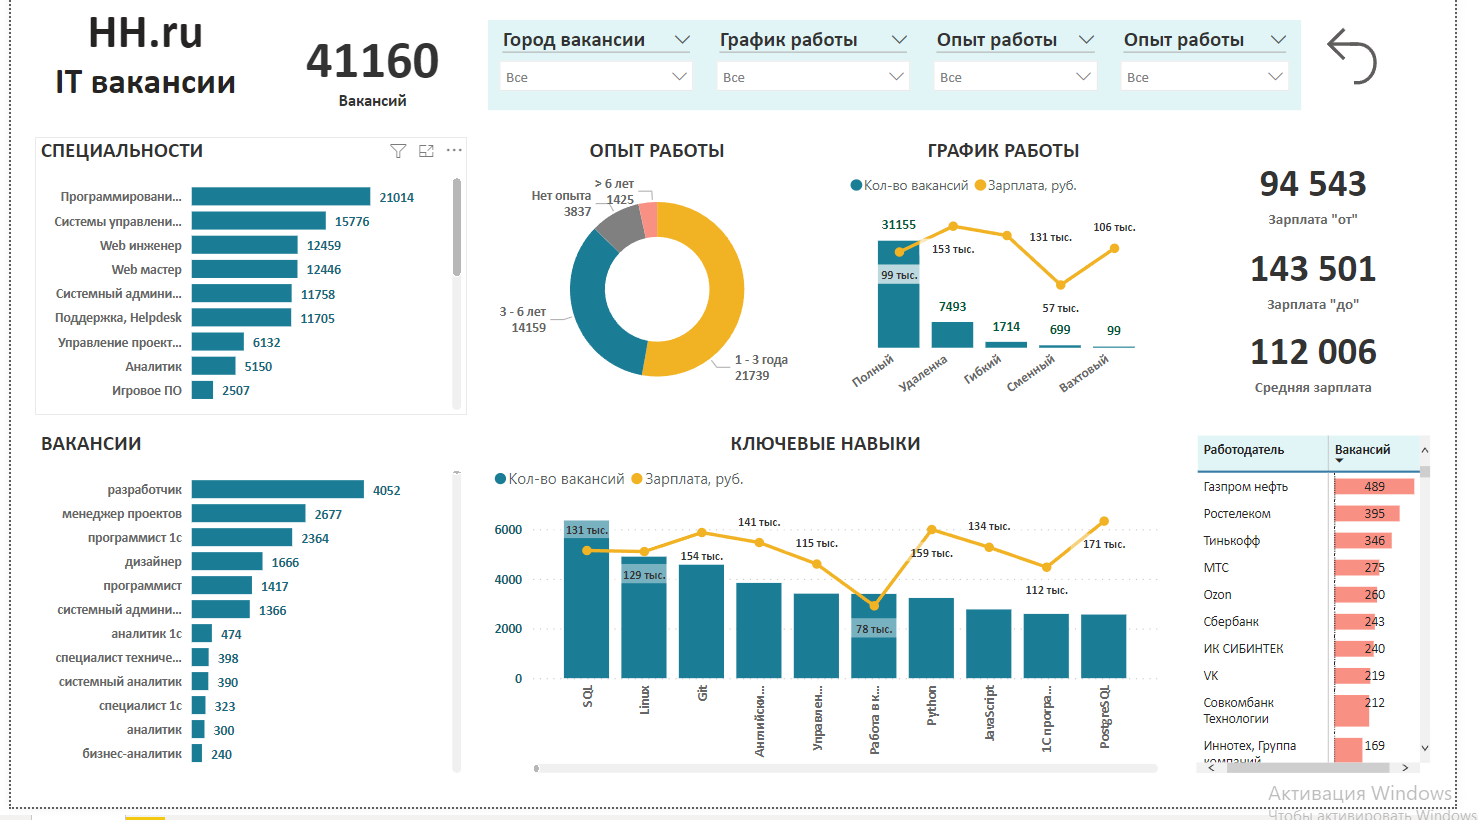

Layout of this report page (visuals, bound fields, positions):
{"tool":"powerbi","page":{"name":"Вакансии","canvas":[1280,720],"ordinal":1},"visuals":[{"type":"shape","box":[594.1,17.7,550.6,79.8],"z":0},{"type":"slicer","fields":{"Values":["Вакансии HH.ru.Город вакансии"]},"box":[594.1,17.7,192.4,79.8],"z":1000},{"type":"slicer","fields":{"Values":["Вакансии HH.ru.График работы"]},"box":[783.8,17.7,192.4,79.8],"z":2000},{"type":"slicer","fields":{"Values":["Вакансии HH.ru.Опыт работы"]},"box":[978.9,17.7,165.8,79.8],"z":3000},{"type":"card","fields":{"Values":["Вакансии HH.ru.Vac_count"]},"box":[313.9,16,180,88.7],"z":4000},{"type":"lineStackedColumnComboChart","title":"КЛЮЧЕВЫЕ НАВЫКИ","fields":{"Category":["Вакансии HH.ru.Ключевые навыки"],"Y":["Вакансии HH.ru.Vac_count"],"Y2":["Вакансии HH.ru.salary_mean"]},"box":[423,385.7,598.5,309.5],"z":5000},{"type":"barChart","title":"ВАКАНСИИ","fields":{"Y":["Вакансии HH.ru.Vac_count"],"Category":["Вакансии HH.ru.Вакансии"]},"box":[21.3,385.7,383.1,309.5],"z":6000},{"type":"barChart","title":"СПЕЦИАЛЬНОСТИ","fields":{"Category":["Вакансии HH.ru.Специальность"],"Y":["Вакансии HH.ru.Vac_count"]},"box":[21.3,125.9,383.1,246.5],"z":7000},{"type":"donutChart","title":"ОПЫТ РАБОТЫ","fields":{"Category":["Вакансии HH.ru.Опыт работы"],"Y":["Вакансии HH.ru.Vac_count"]},"box":[423,125.9,299.7,246.5],"z":8000},{"type":"card","fields":{"Values":["Вакансии HH.ru.salary1"]},"box":[1046.3,135.7,217.2,75.4],"z":10000},{"type":"card","fields":{"Values":["Вакансии HH.ru.salary2"]},"box":[1046.3,211,217.2,75.4],"z":11000},{"type":"card","fields":{"Values":["Вакансии HH.ru.salary_mean"]},"box":[1046.3,284.6,217.2,75.4],"z":12000},{"type":"lineStackedColumnComboChart","title":"ГРАФИК РАБОТЫ","fields":{"Category":["Вакансии HH.ru.График работы"],"Y":["Вакансии HH.ru.Vac_count"],"Y2":["Вакансии HH.ru.salary_mean"]},"box":[738.6,125.9,282.9,246.5],"z":13000},{"type":"tableEx","fields":{"Values":["Вакансии HH.ru.Работодатель","Вакансии HH.ru.Vac_count"]},"box":[1046.3,385.7,217.2,309.5],"z":14000},{"type":"actionButton","box":[1157.1,22.2,79.8,63.8],"z":15000},{"type":"textbox","box":[0,16.8,336.9,73.6],"z":16000}]}

Visuals, with their boxes on the page's 1280x720 design canvas (x1, y1, x2, y2). These are canvas units, not pixel positions in the 1478x820 screenshot, which may show the page scaled, cropped or inside an application window:
shape: box(594, 18, 1145, 98)
slicer - Вакансии HH.ru.Город вакансии: box(594, 18, 786, 98)
slicer - Вакансии HH.ru.График работы: box(784, 18, 976, 98)
slicer - Вакансии HH.ru.Опыт работы: box(979, 18, 1145, 98)
card - Вакансии HH.ru.Vac_count: box(314, 16, 494, 105)
"КЛЮЧЕВЫЕ НАВЫКИ" lineStackedColumnComboChart: box(423, 386, 1022, 695)
"ВАКАНСИИ" barChart: box(21, 386, 404, 695)
"СПЕЦИАЛЬНОСТИ" barChart: box(21, 126, 404, 372)
"ОПЫТ РАБОТЫ" donutChart: box(423, 126, 723, 372)
card - Вакансии HH.ru.salary1: box(1046, 136, 1264, 211)
card - Вакансии HH.ru.salary2: box(1046, 211, 1264, 286)
card - Вакансии HH.ru.salary_mean: box(1046, 285, 1264, 360)
"ГРАФИК РАБОТЫ" lineStackedColumnComboChart: box(739, 126, 1022, 372)
tableEx - Вакансии HH.ru.Работодатель x Вакансии HH.ru.Vac_count: box(1046, 386, 1264, 695)
actionButton: box(1157, 22, 1237, 86)
textbox: box(0, 17, 337, 90)
